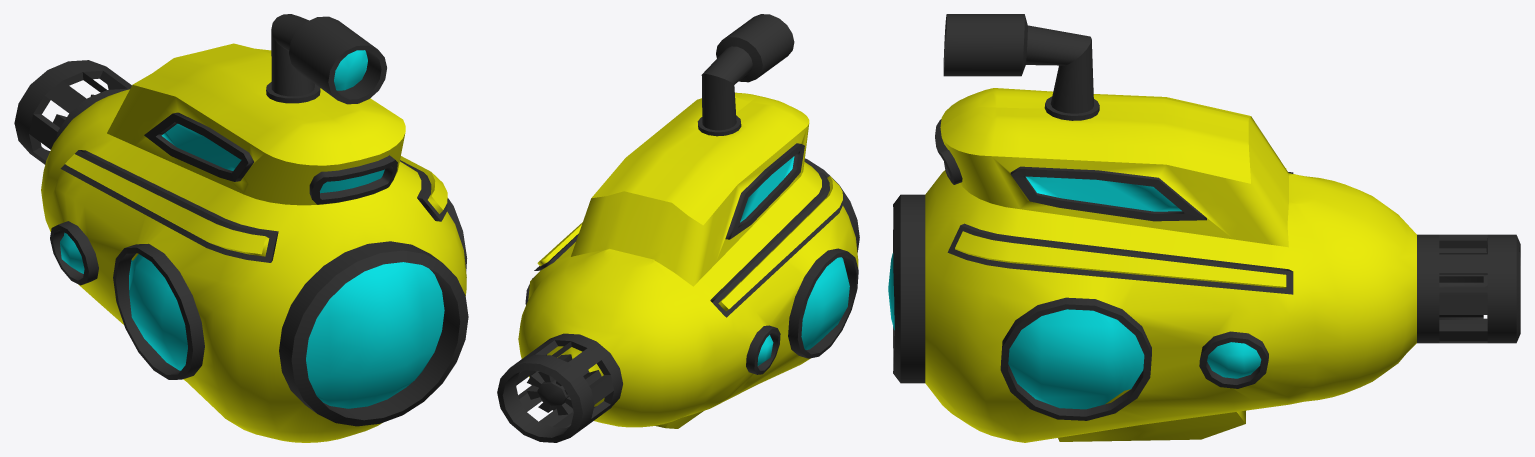
File: Enemy_Tank.fbx
3 renders of one model, left to right at view 1: azimuth 30°, elevation 25°; view 2: azimuth 150°, elevation 25°; view 3: azimuth 270°, elevation 25°, orthographic. The views are drawn at different scales.
Visible parts, largest first — view 1: Sphere; view 2: Sphere; view 3: Sphere.
Boxes of the visible parts, x1,y1,x2,y2 form: Sphere: (14,14,468,442); Sphere: (497,14,859,442); Sphere: (888,14,1520,442).
Bounding box in the file's own units: 116 × 159 × 217.
